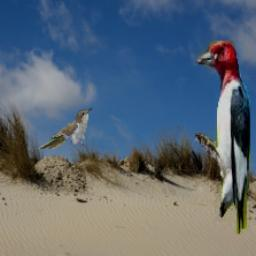Cuckoo: (39, 108, 93, 150)
Woodpecker: (195, 42, 250, 236)
